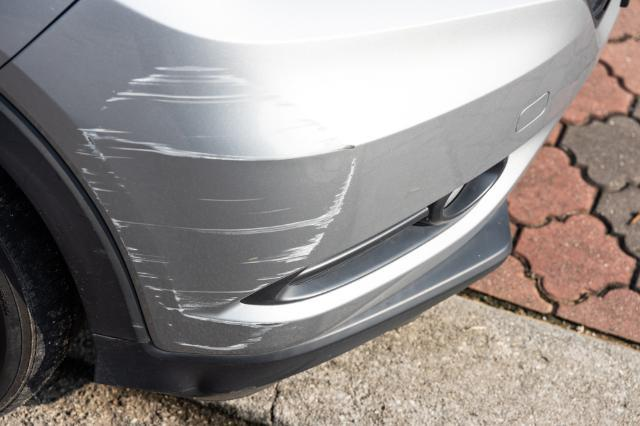scratch: (72, 64, 359, 352)
